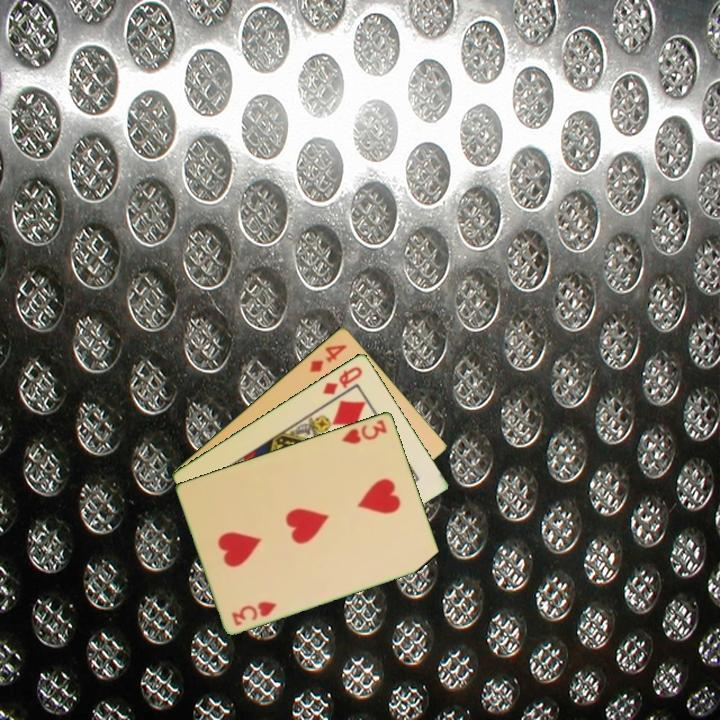3h: (228, 597, 280, 629), (339, 416, 390, 447)
4d: (306, 340, 350, 375)
Qd: (319, 362, 365, 397)
